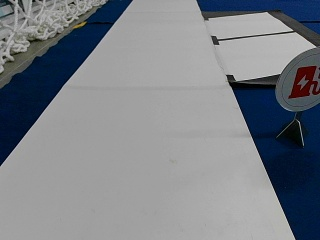battery: (276, 47, 319, 112)
